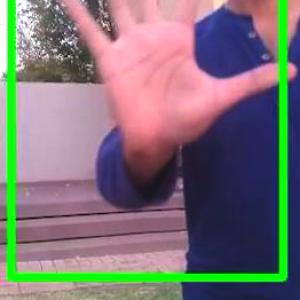follow_hand: (50, 0, 300, 157)
